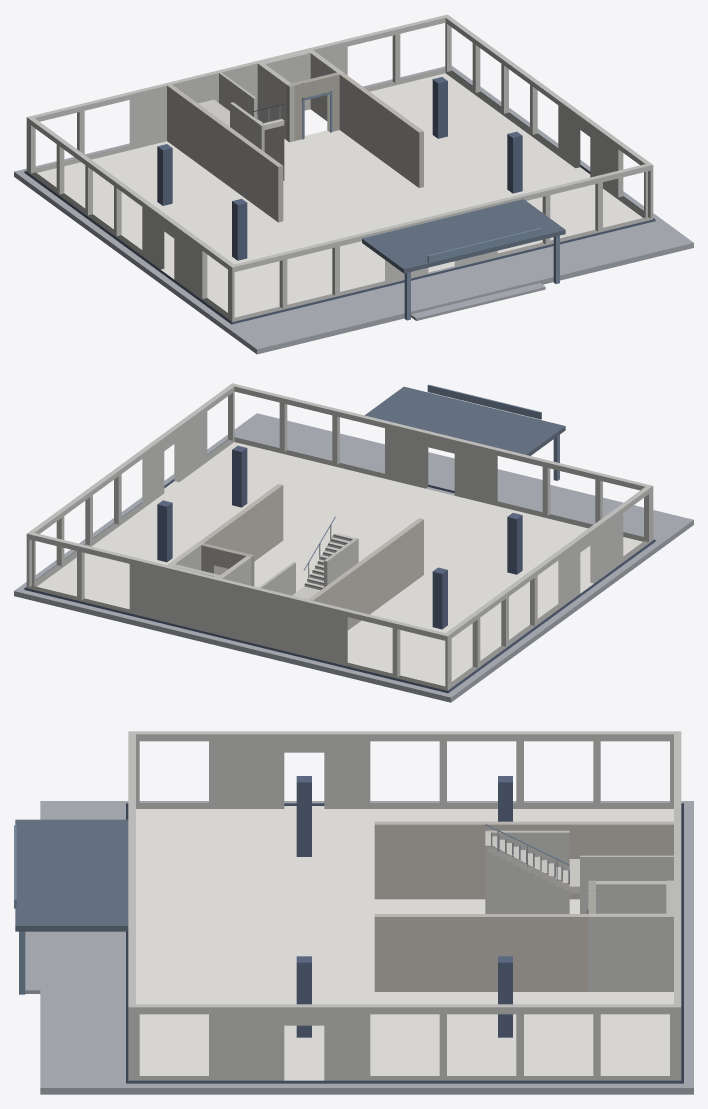
File: office-lobby.gaps-v1.lod0.glb
3 renders of one model, top to bottom at view 1: azimuth 30°, elevation 25°; view 2: azimuth 150°, elevation 25°; view 3: azimuth 270°, elevation 25°, orthographic. The views are drawn at different scales.
Parts seen in each view (by area): view 1: office-lobby; view 2: office-lobby; view 3: office-lobby.
Boxes of the visible parts, x1=… form: office-lobby: x1=14, y1=14, x2=693, y2=354; office-lobby: x1=14, y1=383, x2=693, y2=702; office-lobby: x1=14, y1=731, x2=693, y2=1094.
Size of the model in its own units: 27 by 4.89 by 27.05.
